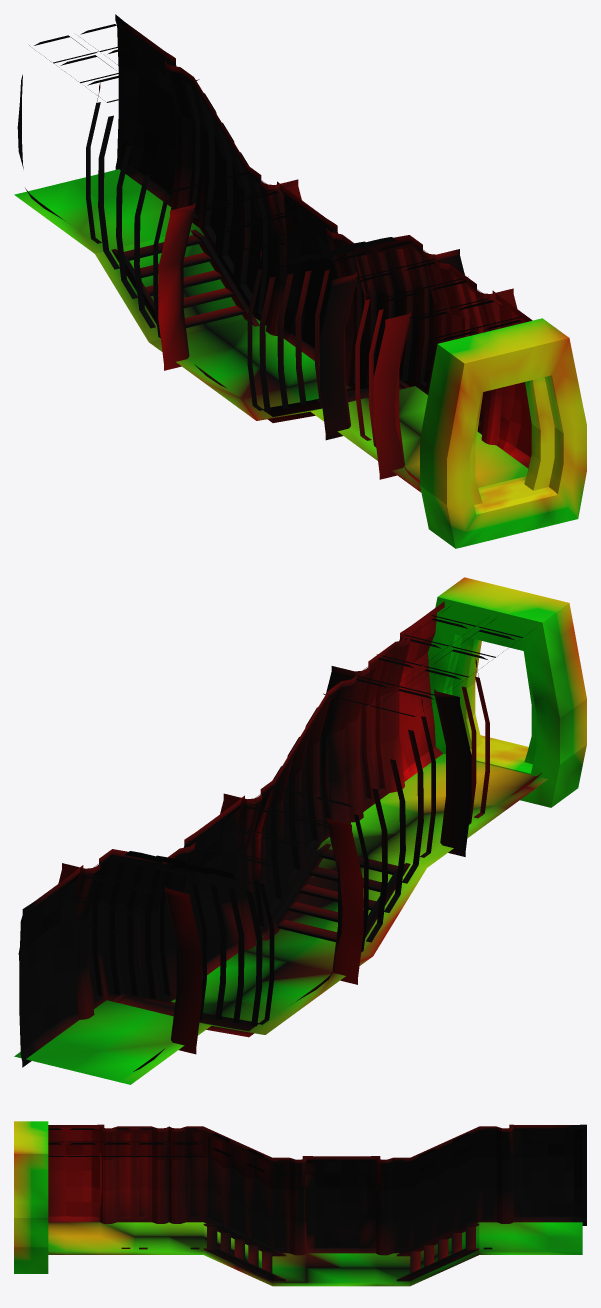
File: corridor_g.glb
The picture shows the model from 3 angles, top to bottom: view 1: azimuth 30°, elevation 25°; view 2: azimuth 150°, elevation 25°; view 3: azimuth 270°, elevation 25°; orthographic projection. The views are drawn at different scales.
Visible parts, largest first — view 1: Corridor_G_Wall_Panel, Corridor_G_Doorframes, Corridor_G_Floor, Corridor_G_Stone_Wall, Corridor_G_Ceiling, Corridor_G_Stairs; view 2: Corridor_G_Wall_Panel, Corridor_G_Floor, Corridor_G_Doorframes, Corridor_G_Stone_Wall, Corridor_G_Stairs, Corridor_G_Ceiling; view 3: Corridor_G_Wall_Panel, Corridor_G_Stone_Wall, Corridor_G_Floor, Corridor_G_Doorframes, Corridor_G_Stairs, Corridor_G_Ceiling.
Part boxes in pixels (x1=…): Corridor_G_Wall_Panel: x1=86, y1=61, x2=517, y2=479; Corridor_G_Doorframes: x1=420, y1=318, x2=586, y2=548; Corridor_G_Floor: x1=14, y1=169, x2=528, y2=492; Corridor_G_Stone_Wall: x1=17, y1=14, x2=532, y2=483; Corridor_G_Ceiling: x1=29, y1=24, x2=522, y2=341; Corridor_G_Stairs: x1=111, y1=229, x2=410, y2=422; Corridor_G_Wall_Panel: x1=58, y1=635, x2=489, y2=1054; Corridor_G_Floor: x1=14, y1=753, x2=547, y2=1084; Corridor_G_Doorframes: x1=428, y1=577, x2=586, y2=807; Corridor_G_Stone_Wall: x1=18, y1=601, x2=542, y2=1071; Corridor_G_Stairs: x1=111, y1=843, x2=410, y2=1037; Corridor_G_Ceiling: x1=27, y1=606, x2=529, y2=933; Corridor_G_Wall_Panel: x1=100, y1=1126, x2=513, y2=1280; Corridor_G_Stone_Wall: x1=48, y1=1124, x2=586, y2=1253; Corridor_G_Floor: x1=48, y1=1222, x2=582, y2=1286; Corridor_G_Doorframes: x1=14, y1=1121, x2=48, y2=1273; Corridor_G_Stairs: x1=203, y1=1223, x2=479, y2=1281; Corridor_G_Ceiling: x1=48, y1=1128, x2=582, y2=1188.
Size of what is drawn, in the model's own units: 3.25 by 4.3 by 16.63.
